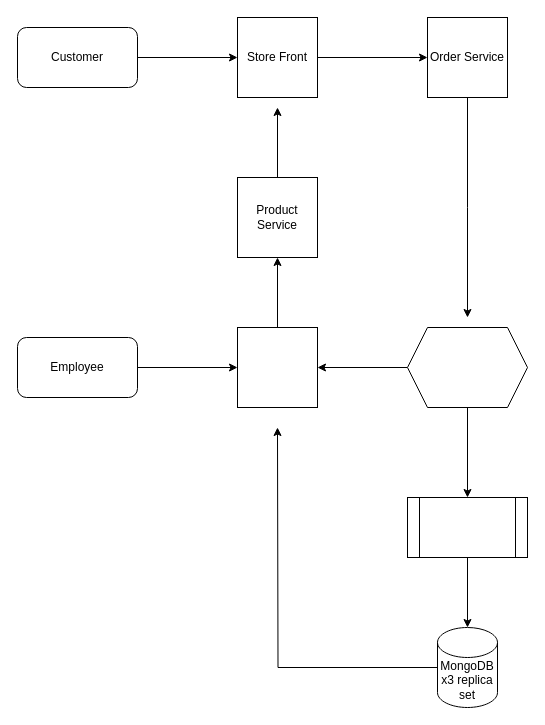
The diagram is 545 pixels wide and 725 high, and some of its shapes have lost their labels. Here are the shapes that lost their labels. From the top down, the centre of each, then its label:
At pixel 277 367: "Store Admin".
At pixel 467 367: "RabbitMQ".
At pixel 467 527: "Makeline service".
